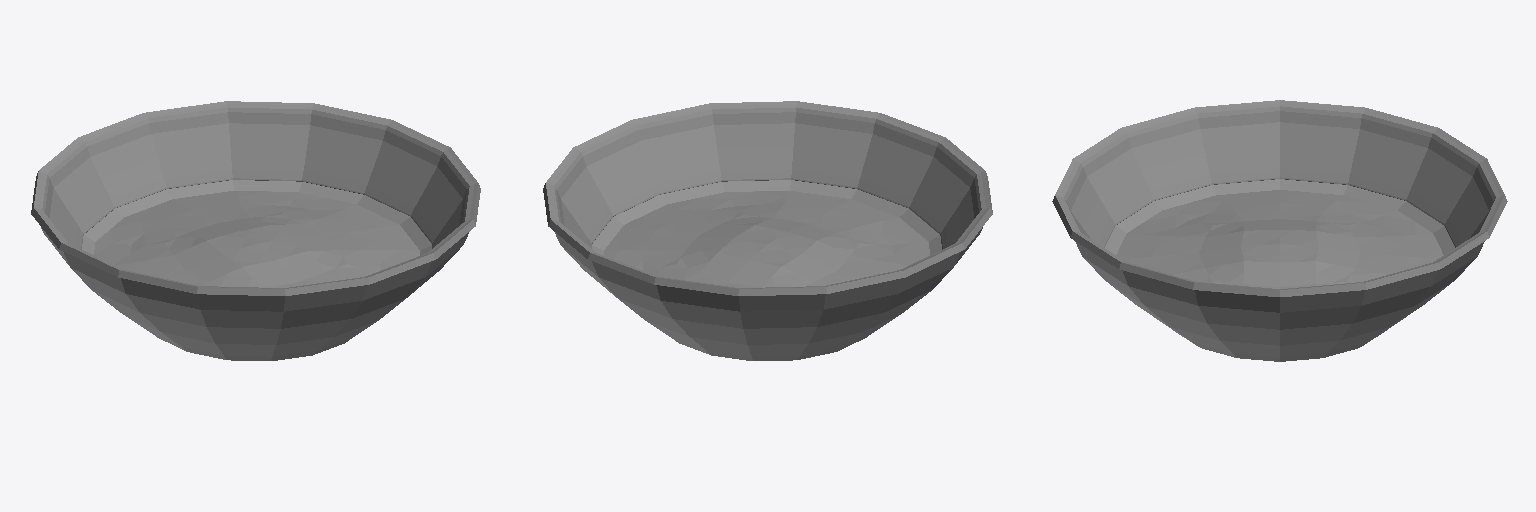
Rendered from Plato_sinFideos.obj.
3 renders of one model, left to right at view 1: azimuth 30°, elevation 25°; view 2: azimuth 150°, elevation 25°; view 3: azimuth 270°, elevation 25°, orthographic.
Visible parts, largest first — view 1: ramen; view 2: ramen; view 3: ramen.
Part boxes in pixels (x1,y1,x2,y2): ramen: (31,101,480,360); ramen: (543,101,992,360); ramen: (1052,100,1507,361).
Size of the model in its own units: 31.63 by 9.33 by 31.63.